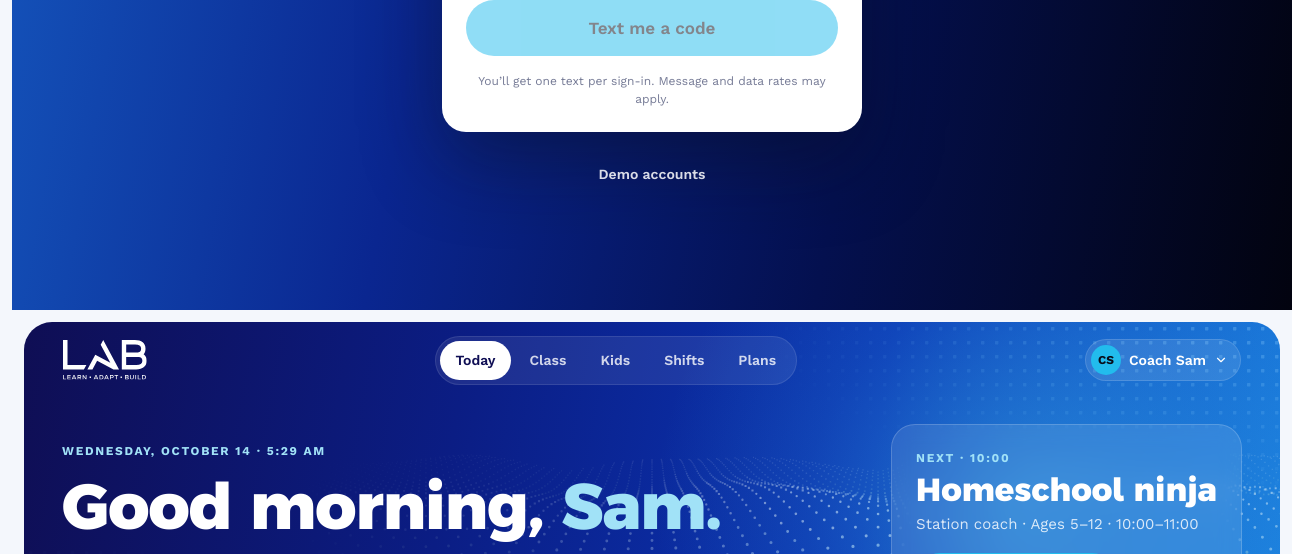
Test: plans and crew › shows a coach other classes as view only
(page scrolled)
Click the button "Plans" at (757, 360), box [722,340,792,380]
(page scrolled)
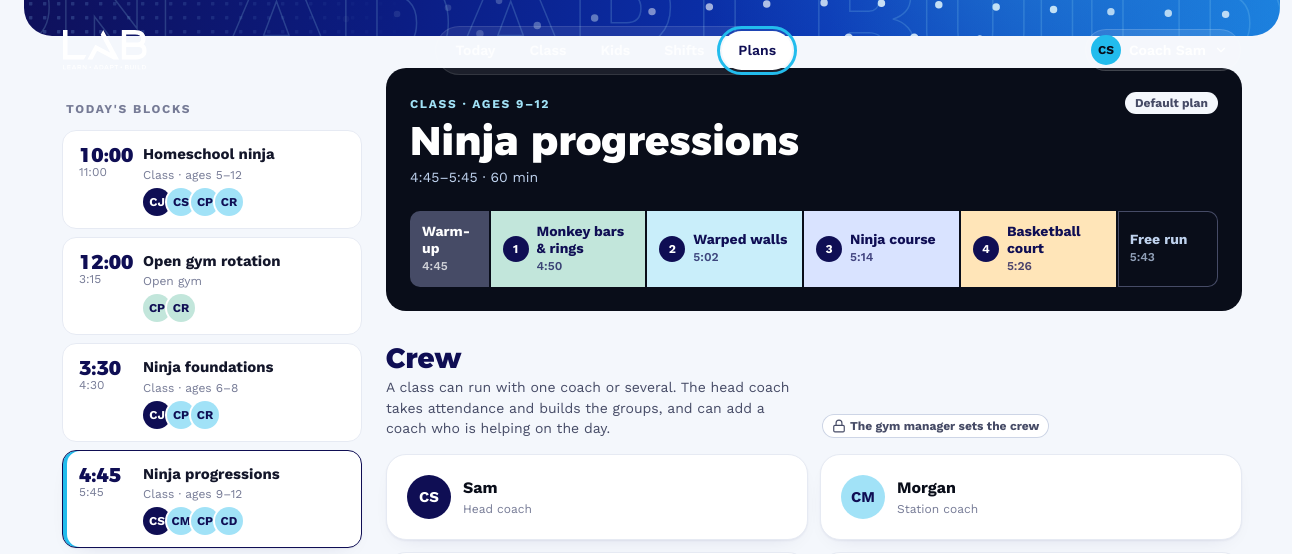
Click the button "3:30 4:30 Ninja foundations Class · ages 6–8 CJ CP CR" at (212, 392), box [62,343,362,442]
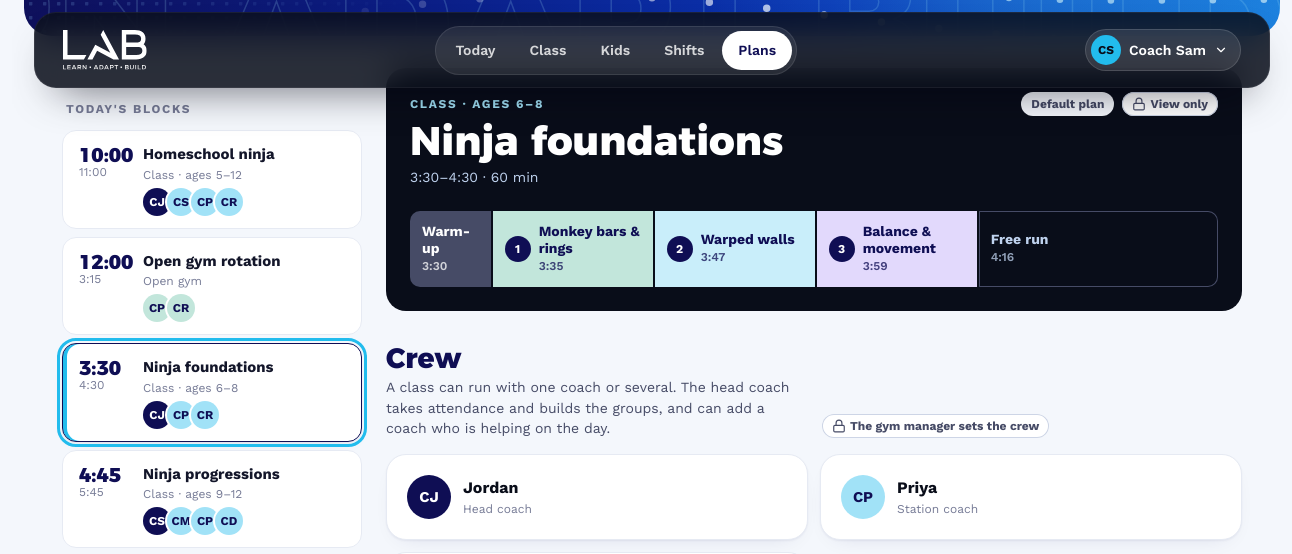
Now the text "View only" is shown, box [1122,92,1218,116]
